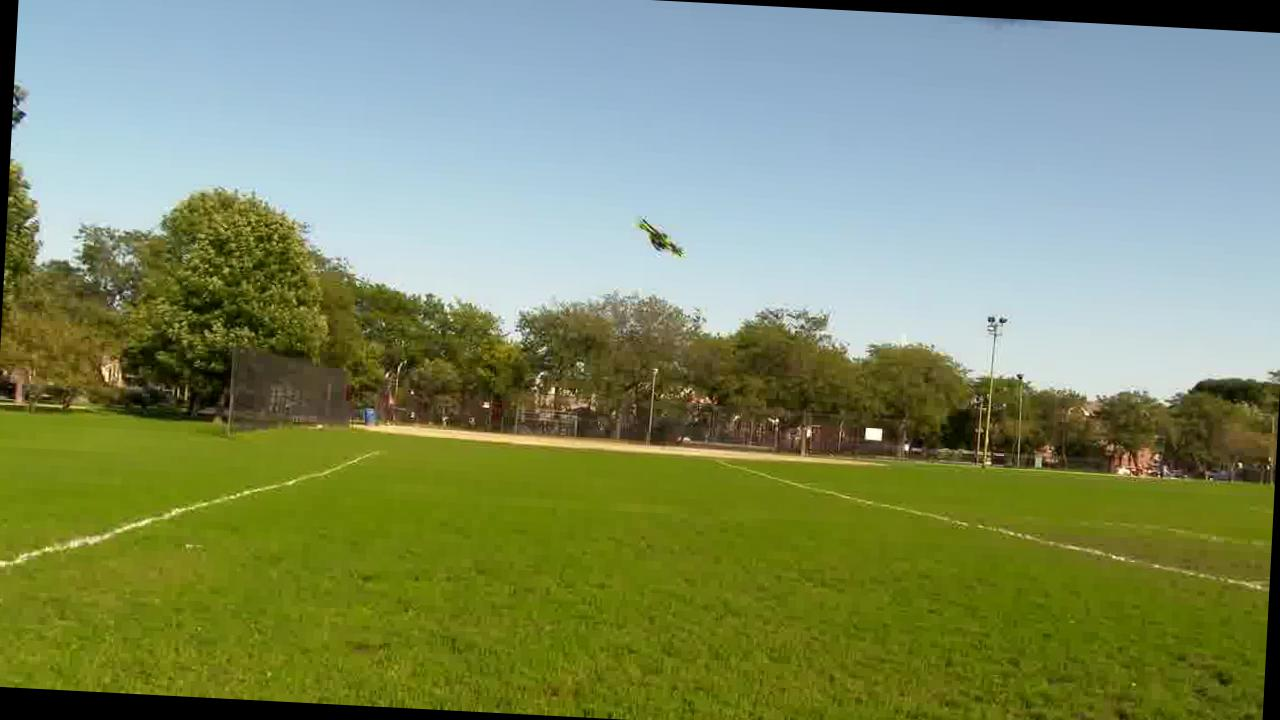drone: (618, 200, 688, 266)
